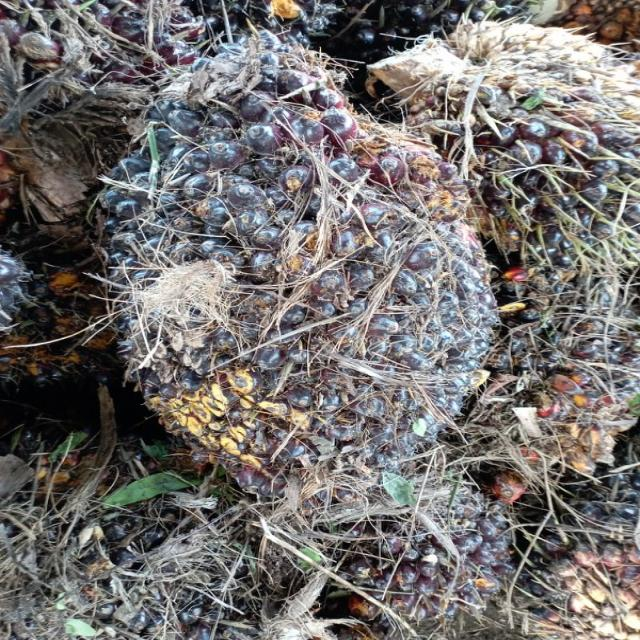fraksi 00: (104, 98, 486, 496)
